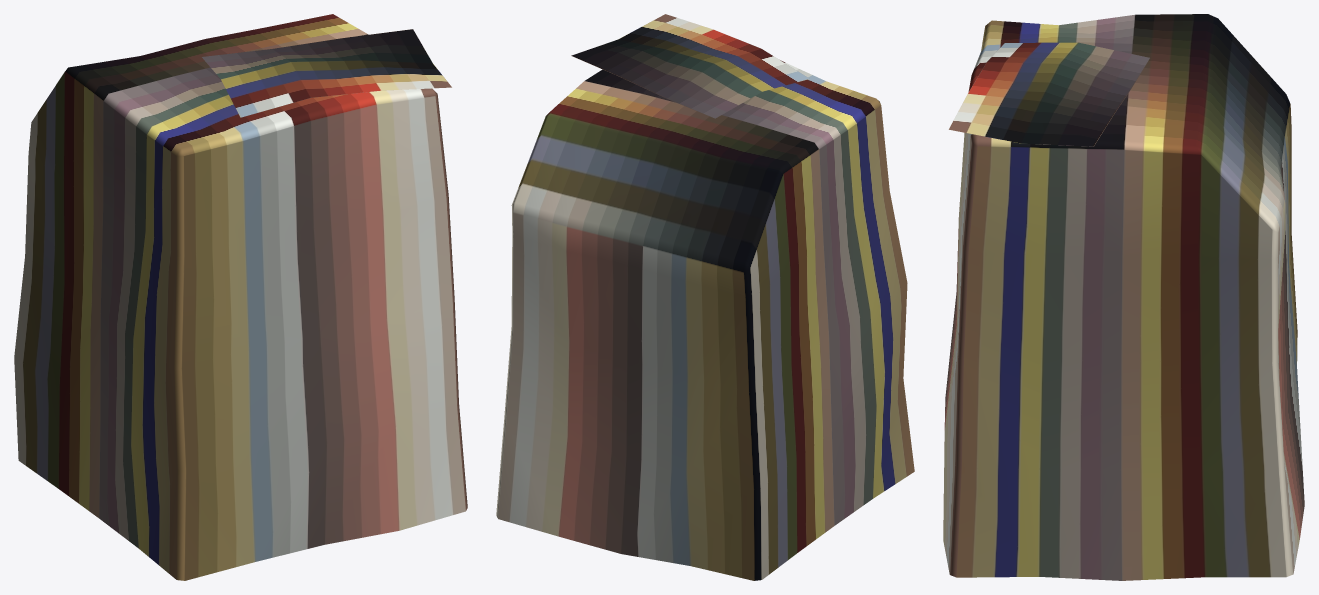
The model's file is MSH_Building_008.glb.
3 views of the same model, side by side, from view 1: azimuth 30°, elevation 25°; view 2: azimuth 150°, elevation 25°; view 3: azimuth 270°, elevation 25° (orthographic). The views are drawn at different scales.
Parts seen in each view (by area): view 1: Base.012; view 2: Base.012; view 3: Base.012.
Boxes of the visible parts, left/top/right/bottom form: Base.012: left=14, top=14, right=467, bottom=580; Base.012: left=496, top=14, right=914, bottom=580; Base.012: left=943, top=14, right=1304, bottom=580.
Size of the model in its own units: 5.46 by 7.48 by 5.44.
Materials: 1 (1 with a texture image).
